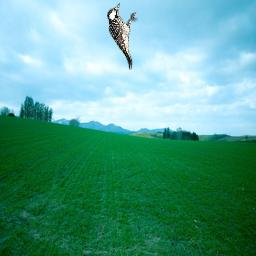Woodpecker: (107, 3, 138, 70)
